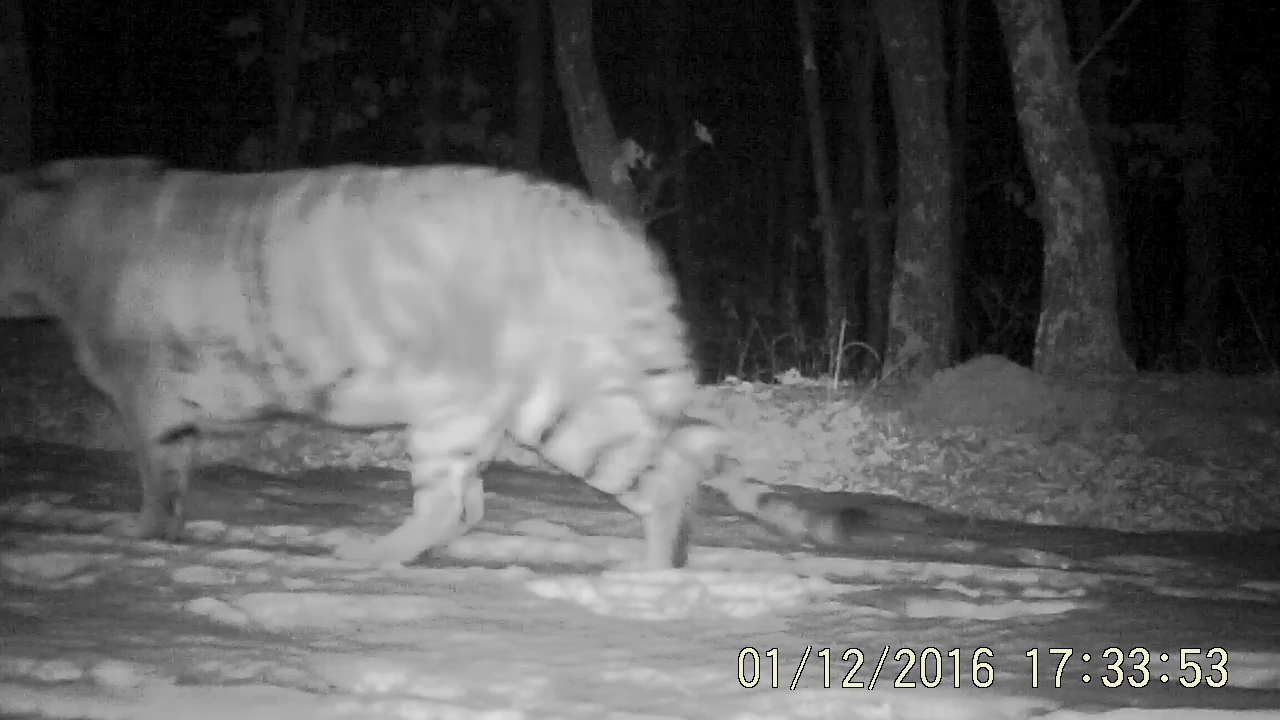Tiger: (5, 109, 949, 608)
